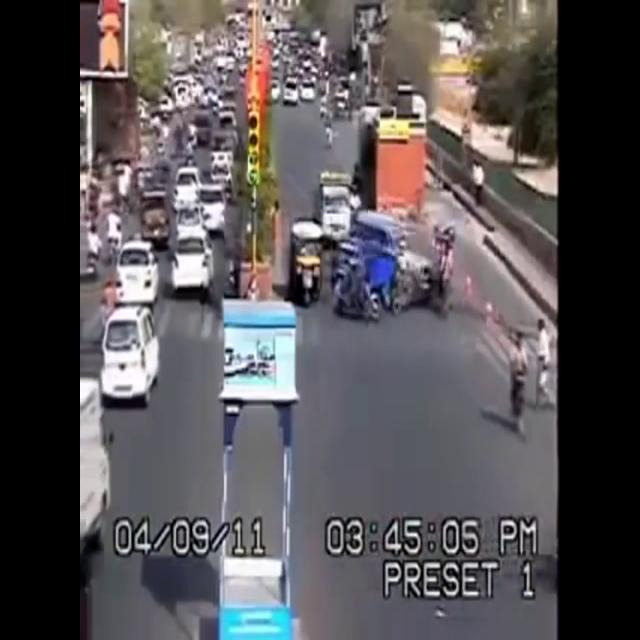multiple_accident: (302, 220, 453, 338)
normal: (98, 208, 227, 318), (87, 295, 180, 428)
